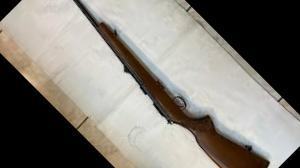larga: (73, 0, 271, 168)
